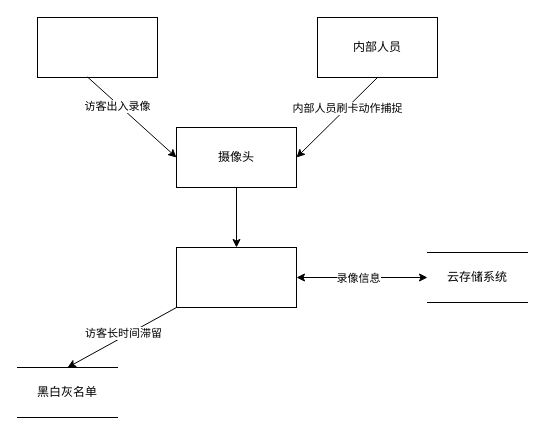
This 545x435 diagram has some shape labels left out. The centre of each missing label's shape, as x and y in pixels:
"记录录像信息" goes at point 236,277.
"访客" goes at point 97,47.
